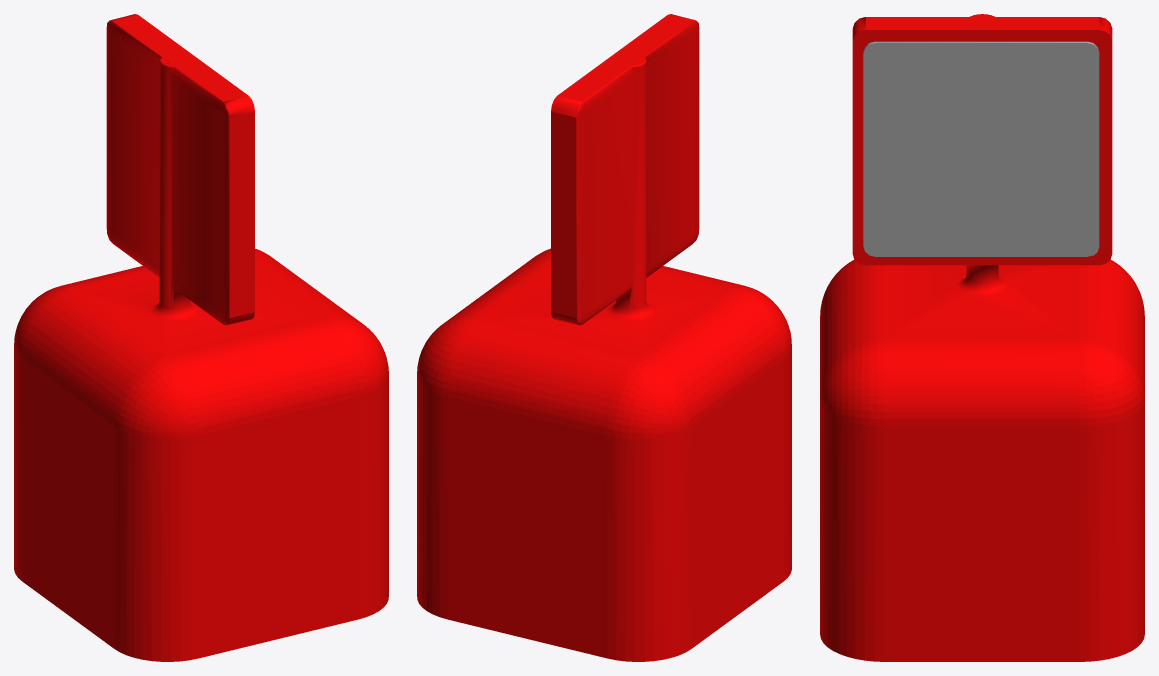
The model's file is Interactable.glb.
3 renders of one model, left to right at view 1: azimuth 30°, elevation 25°; view 2: azimuth 150°, elevation 25°; view 3: azimuth 270°, elevation 25°, orthographic. The views are drawn at different scales.
Parts seen in each view (by area): view 1: Interactable; view 2: Interactable; view 3: Interactable, Screen.
Boxes of the visible parts, x1=… form: Interactable: x1=14, y1=14, x2=388, y2=661; Interactable: x1=417, y1=14, x2=791, y2=661; Interactable: x1=820, y1=14, x2=1144, y2=661; Screen: x1=863, y1=41, x2=1099, y2=256.
Size of the model in its own units: 1 by 1.9 by 1.
